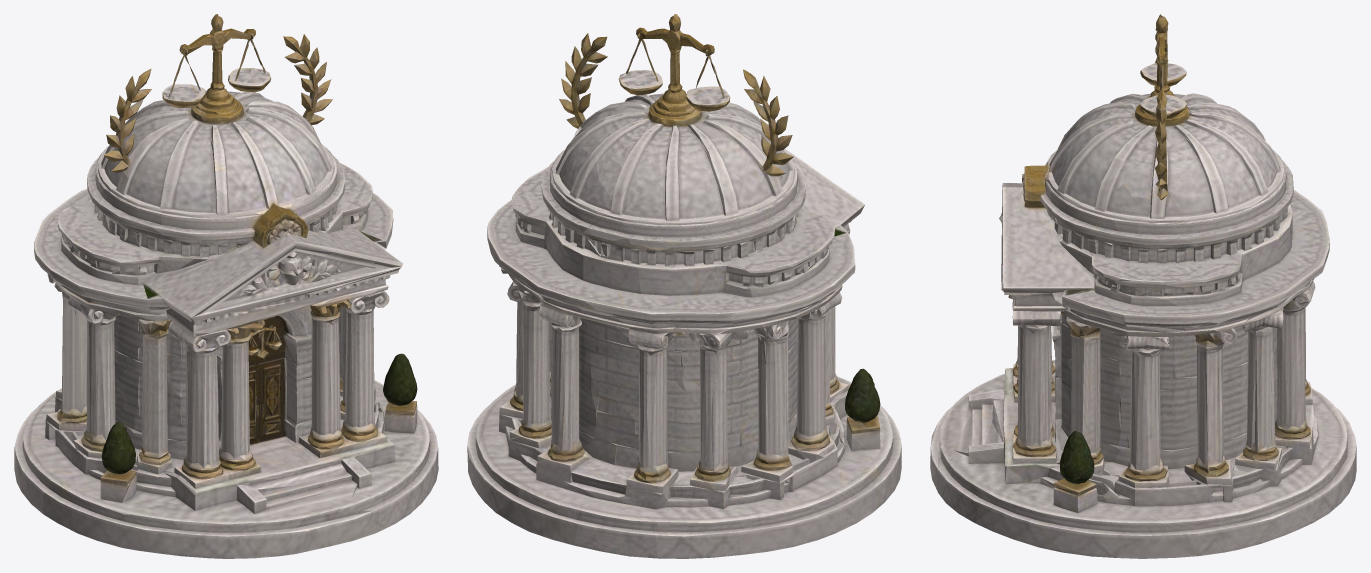
Rendered from island_civics.glb.
3 renders of one model, left to right at view 1: azimuth 30°, elevation 25°; view 2: azimuth 150°, elevation 25°; view 3: azimuth 270°, elevation 25°, orthographic. The views are drawn at different scales.
Parts seen in each view (by area): view 1: Mesh_0; view 2: Mesh_0; view 3: Mesh_0.
Part boxes in pixels (box(x1,y1,x2,y2)): Mesh_0: box(14, 14, 438, 558); Mesh_0: box(467, 14, 901, 558); Mesh_0: box(930, 14, 1356, 558).
Bounding box in the file's own units: 1.62 × 1.9 × 1.62.
Materials: 1 (1 with a texture image).
